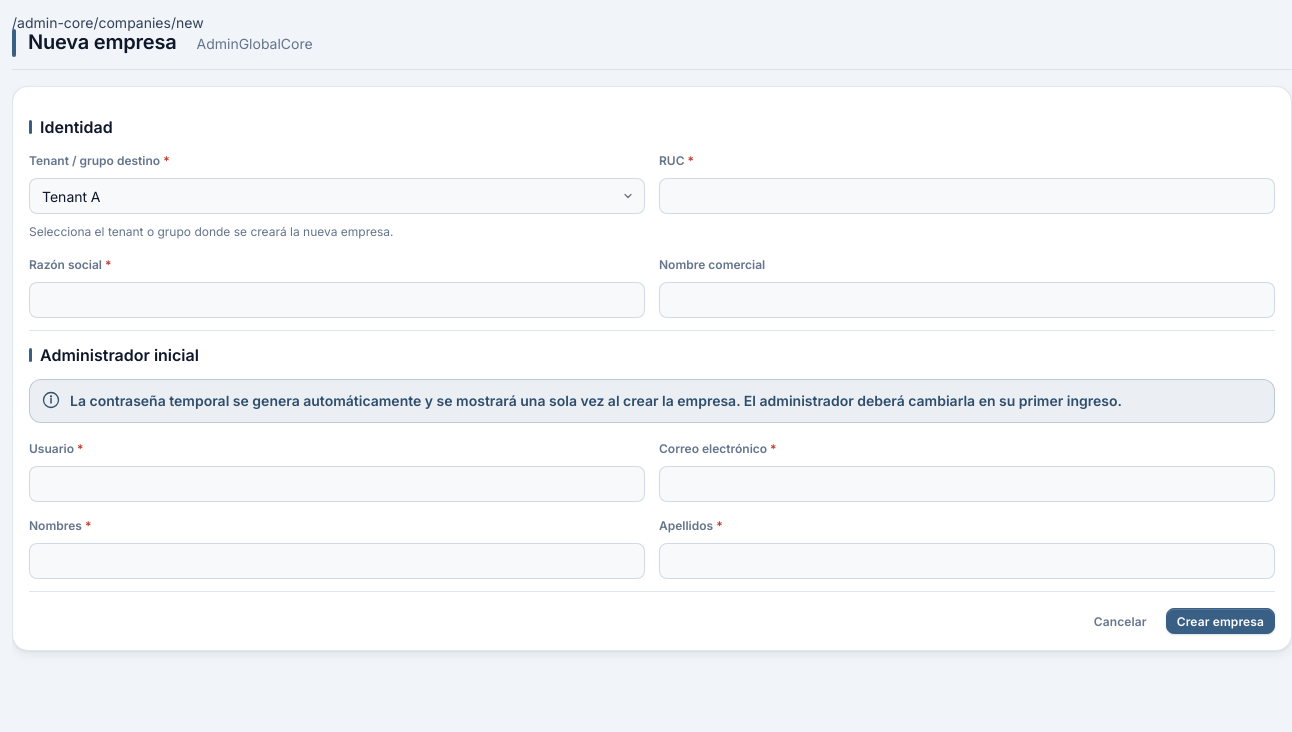
it: AdminCoreCompanyCreatePage — selector de tenant › un 409 por usuario o correo duplicado muestra el error sin exponer credenciales
The image size is (1292, 732).
Expected: the dropdown labelled "Tenant / grupo destino" is shown, [29,178,645,214]
Type "1790012345001" into the field labelled "RUC". click: (967, 196)
box: [659,178,1275,214]
Type "Empresa Nueva" into the field labelled "Razón social". click: (337, 300)
box: [29,282,645,318]
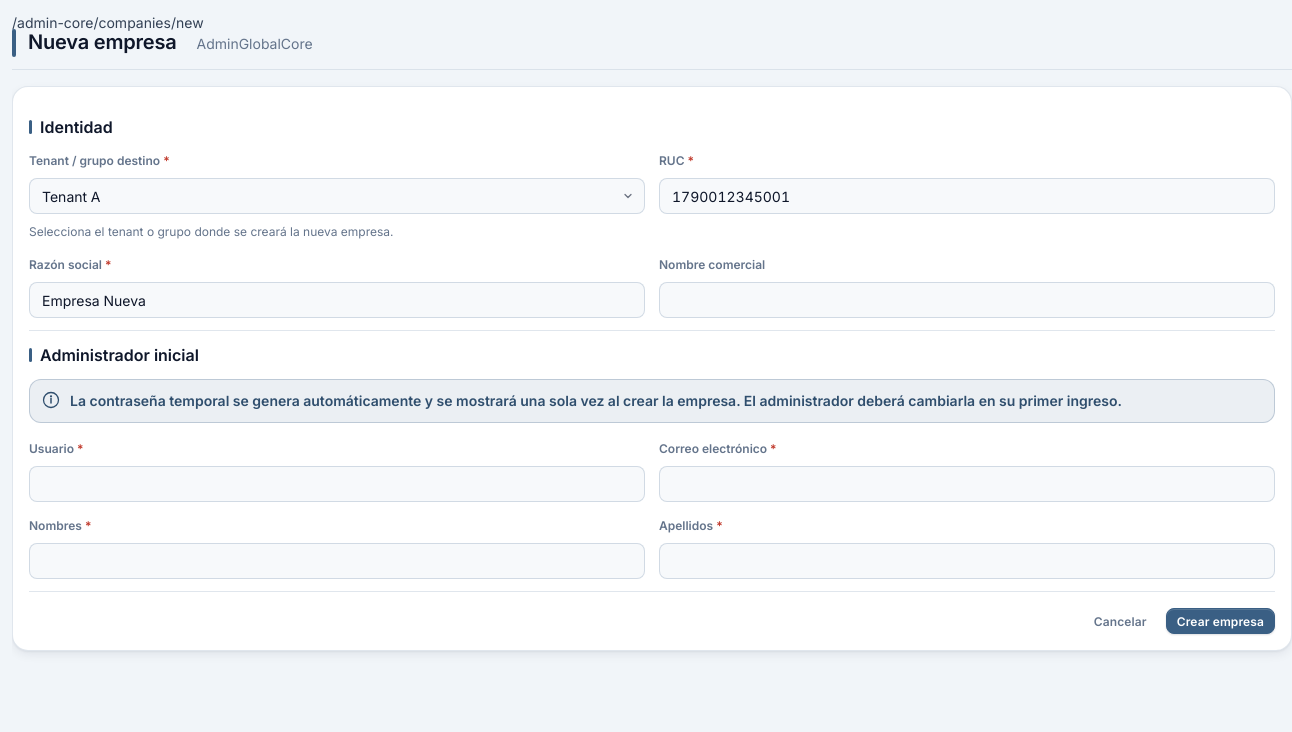
Type "acme.admin" into the field labelled "Usuario". click: (337, 484)
box: [29,466,645,502]
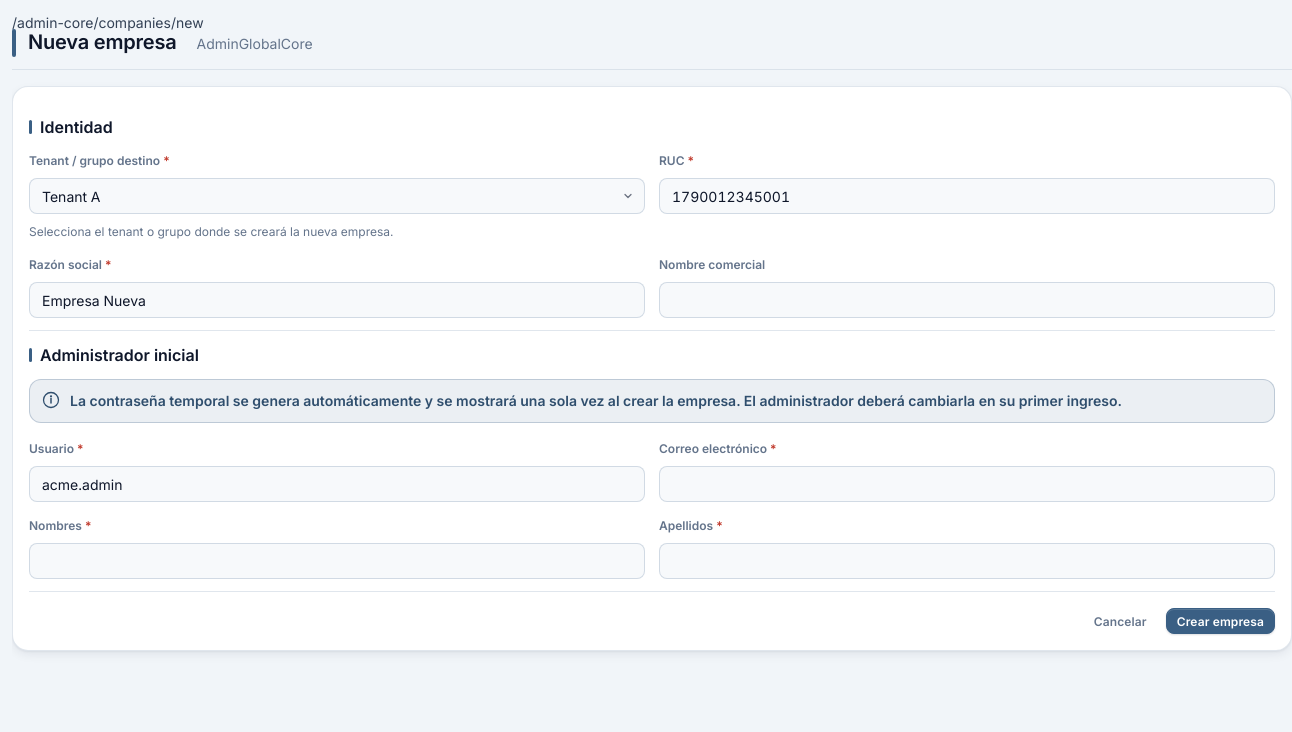
Type "ana@example.test" into the field labelled "Correo electrónico". click: (967, 484)
box: [659,466,1275,502]
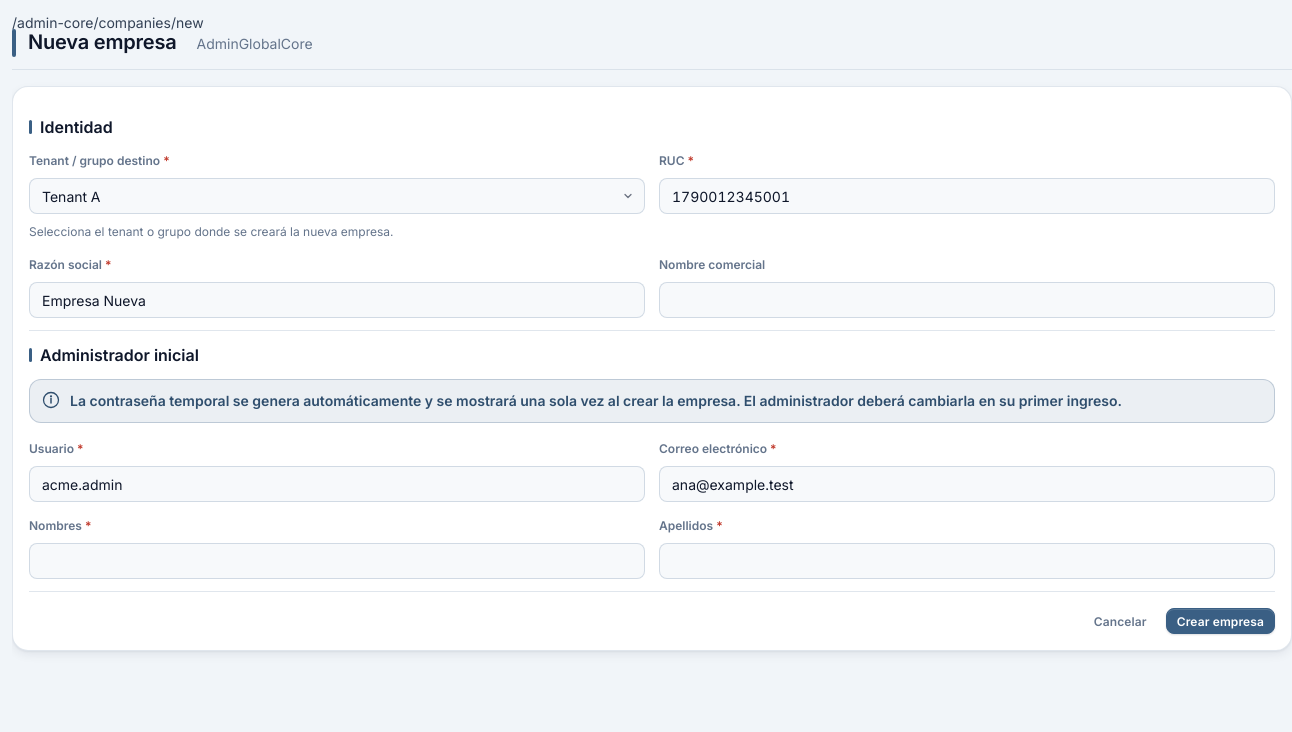
Type "Ana" into the field labelled "Nombres". click: (337, 561)
box: [29,543,645,579]
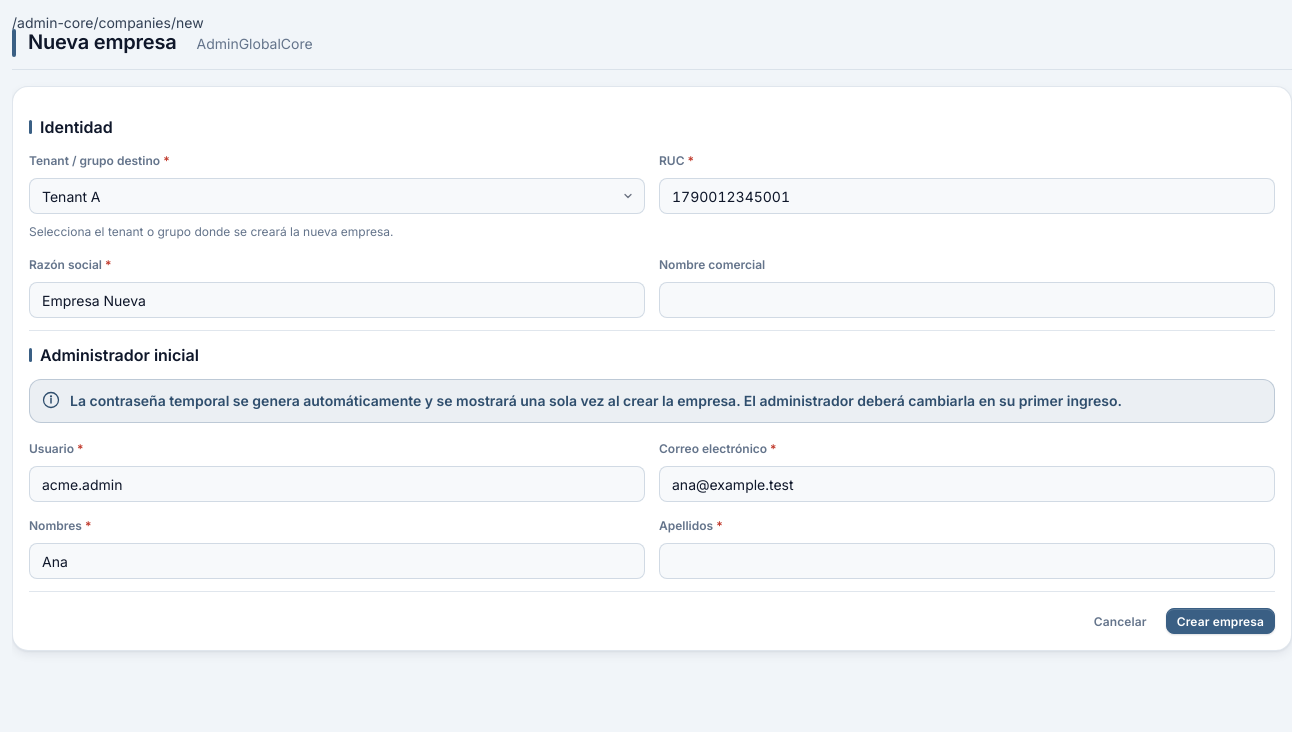
Type "Pérez" into the field labelled "Apellidos". click: (967, 561)
box: [659,543,1275,579]
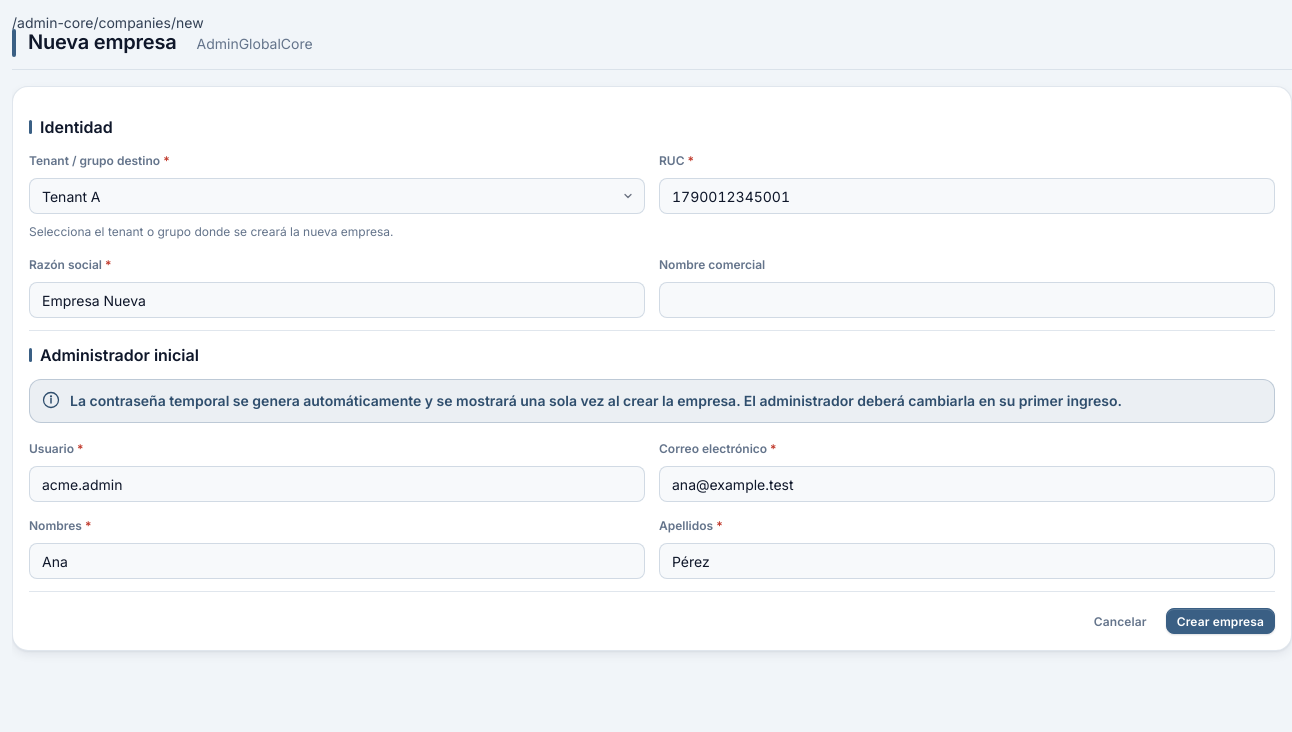
Click the button "Crear empresa". click: (1220, 621)
box: [1166,608,1275,634]
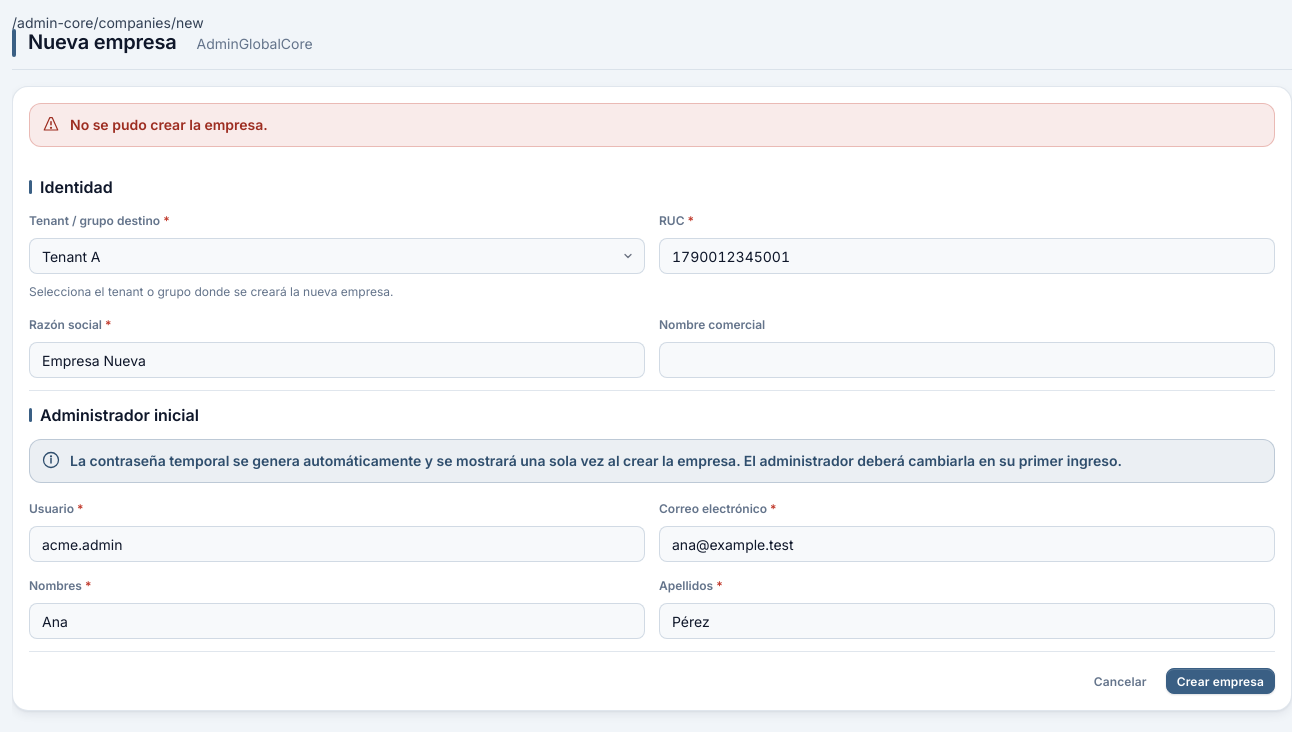
Expected: the message "No se pudo crear la empresa." is shown, [29,103,1275,147]
